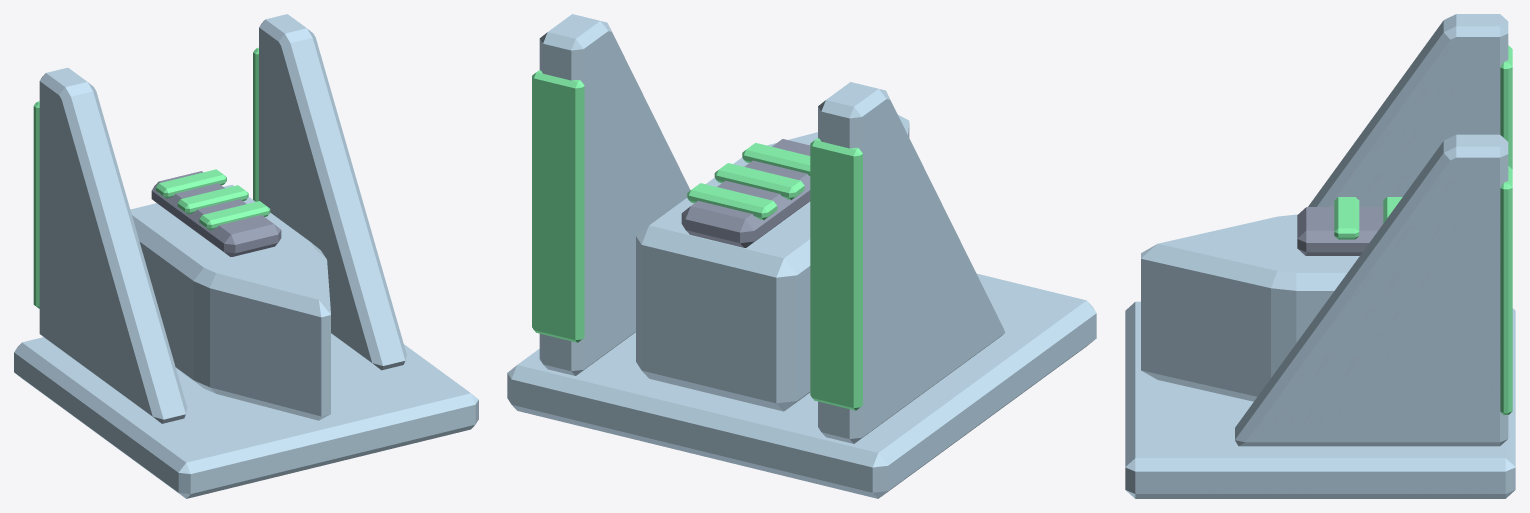
Rendered from R4X_MobilityBooster_LOD1.glb.
3 renders of one model, left to right at view 1: azimuth 30°, elevation 25°; view 2: azimuth 150°, elevation 25°; view 3: azimuth 270°, elevation 25°, orthographic. The views are drawn at different scales.
Parts seen in each view (by area): view 1: R4X_MobilityBooster_LOD1; view 2: R4X_MobilityBooster_LOD1; view 3: R4X_MobilityBooster_LOD1.
Boxes of the visible parts, box(x1,y1,x2,y2) form: R4X_MobilityBooster_LOD1: box(14, 14, 478, 498); R4X_MobilityBooster_LOD1: box(507, 14, 1096, 498); R4X_MobilityBooster_LOD1: box(1125, 14, 1515, 498).
Bounding box in the file's own units: 0.52 × 0.5 × 0.52.
